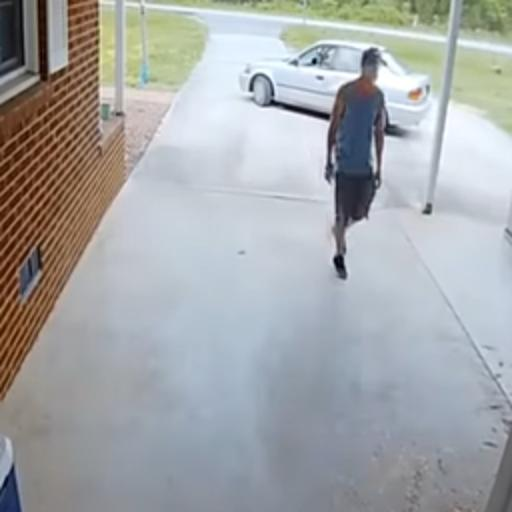Humans: (319, 41, 415, 282)
